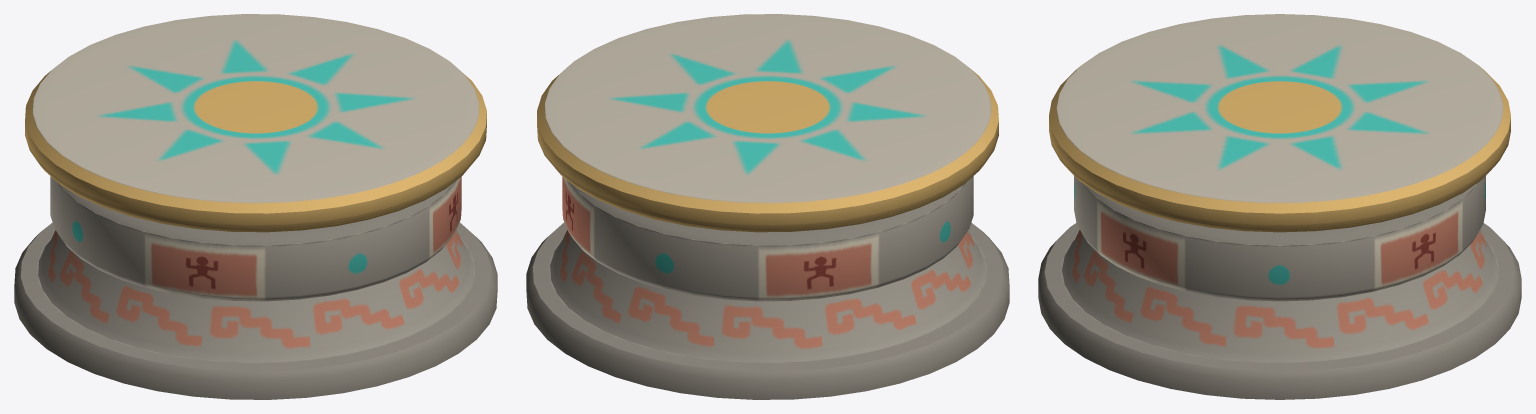
Rendered from pickup_plinth.glb.
3 renders of one model, left to right at view 1: azimuth 30°, elevation 25°; view 2: azimuth 150°, elevation 25°; view 3: azimuth 270°, elevation 25°, orthographic.
Parts seen in each view (by area): view 1: pickup_plinth.001; view 2: pickup_plinth.001; view 3: pickup_plinth.001.
Boxes of the visible parts, <box> form: pickup_plinth.001: <box>14,14,497,399</box>; pickup_plinth.001: <box>526,14,1009,399</box>; pickup_plinth.001: <box>1038,14,1521,399</box>.
Size of the model in its own units: 0.92 by 0.4 by 0.92.
Materials: 1 (1 with a texture image).
